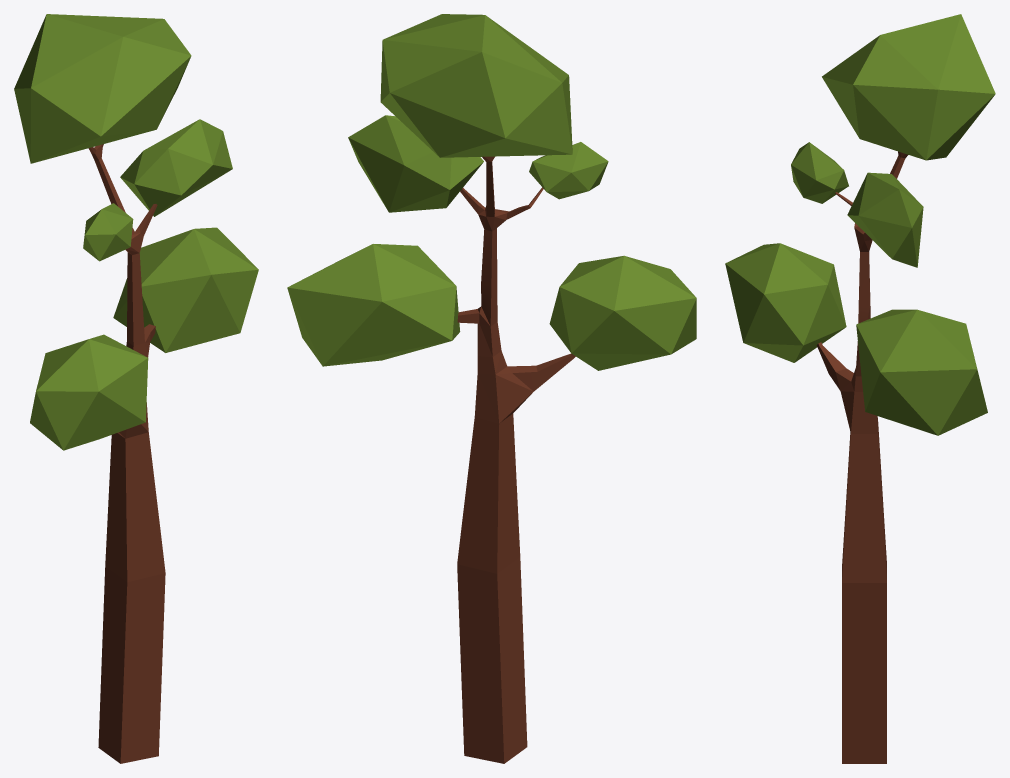
Rendered from Arbol1.fbx.
The picture shows the model from 3 angles, left to right: view 1: azimuth 30°, elevation 25°; view 2: azimuth 150°, elevation 25°; view 3: azimuth 270°, elevation 25°; orthographic projection. The views are drawn at different scales.
Visible parts, largest first — view 1: Arbol2; view 2: Arbol2; view 3: Arbol2.
Part boxes in pixels (<box>): Arbol2: <box>14,14,258,763</box>; Arbol2: <box>287,14,696,763</box>; Arbol2: <box>725,14,995,763</box>.
Size of the model in its own units: 286 by 669 by 227.
